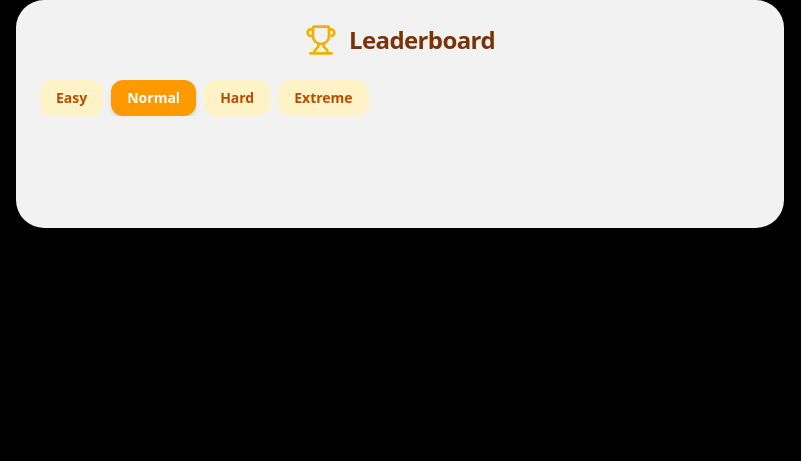
Test: RankingDisplay › switches difficulty tabs
This screenshot has width=801, height=461.
Click the button "Easy".
click(72, 98)  # box [40,80,103,116]
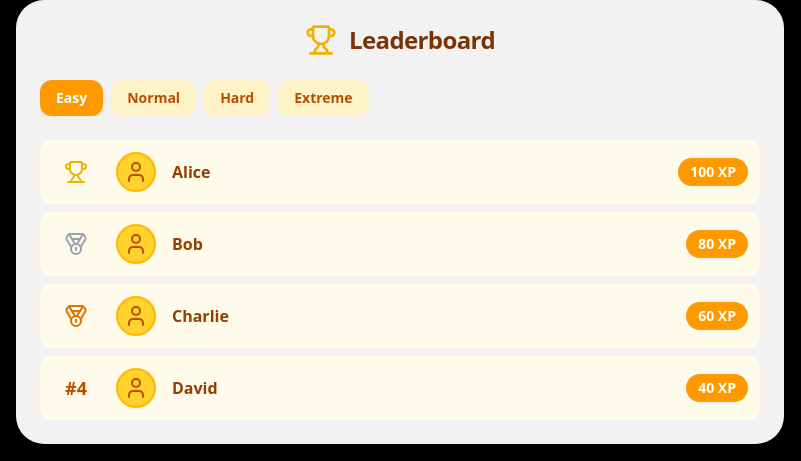
Result: the text "Alice" is shown at [172,161,210,183]
Result: the text "100 XP" is shown at [678,158,748,186]
